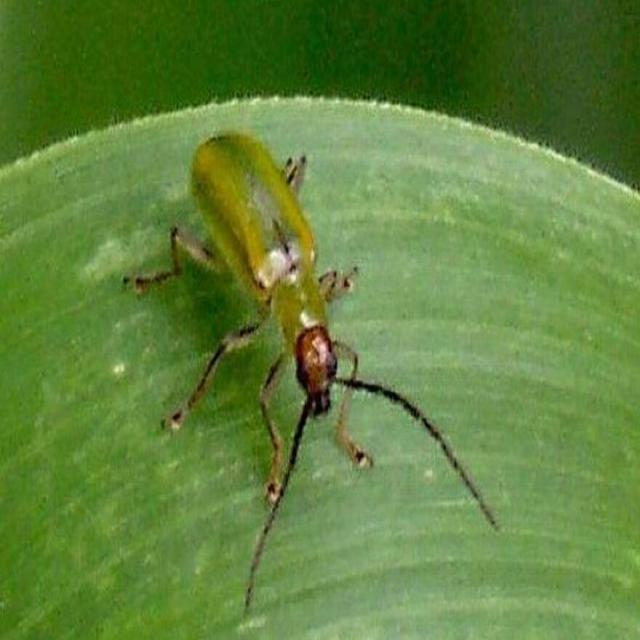gusano_gris: (161, 98, 412, 500)
